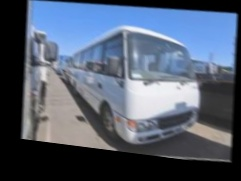bus: (50, 12, 213, 160)
